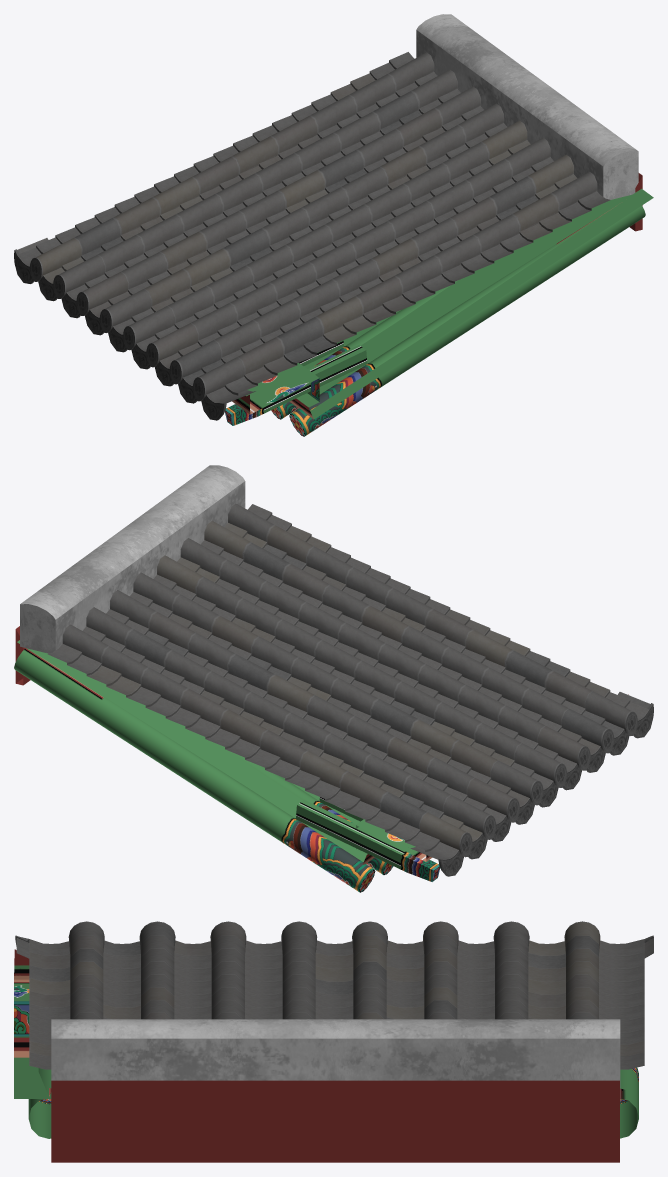
Rendered from SM_Castle_Roof02a.fbx.
3 views of the same model, one above another, from view 1: azimuth 30°, elevation 25°; view 2: azimuth 150°, elevation 25°; view 3: azimuth 270°, elevation 25° (orthographic). The views are drawn at different scales.
Visible parts, largest first — view 1: SM_Castle_Roof02a; view 2: SM_Castle_Roof02a; view 3: SM_Castle_Roof02a.
Part boxes in pixels (left/top/right/bottom): SM_Castle_Roof02a: left=14, top=14, right=653, bottom=436; SM_Castle_Roof02a: left=14, top=465, right=653, bottom=892; SM_Castle_Roof02a: left=14, top=921, right=653, bottom=1162.
Size of the model in its own units: 335 by 281 by 150.
2 materials, 2 textured.
